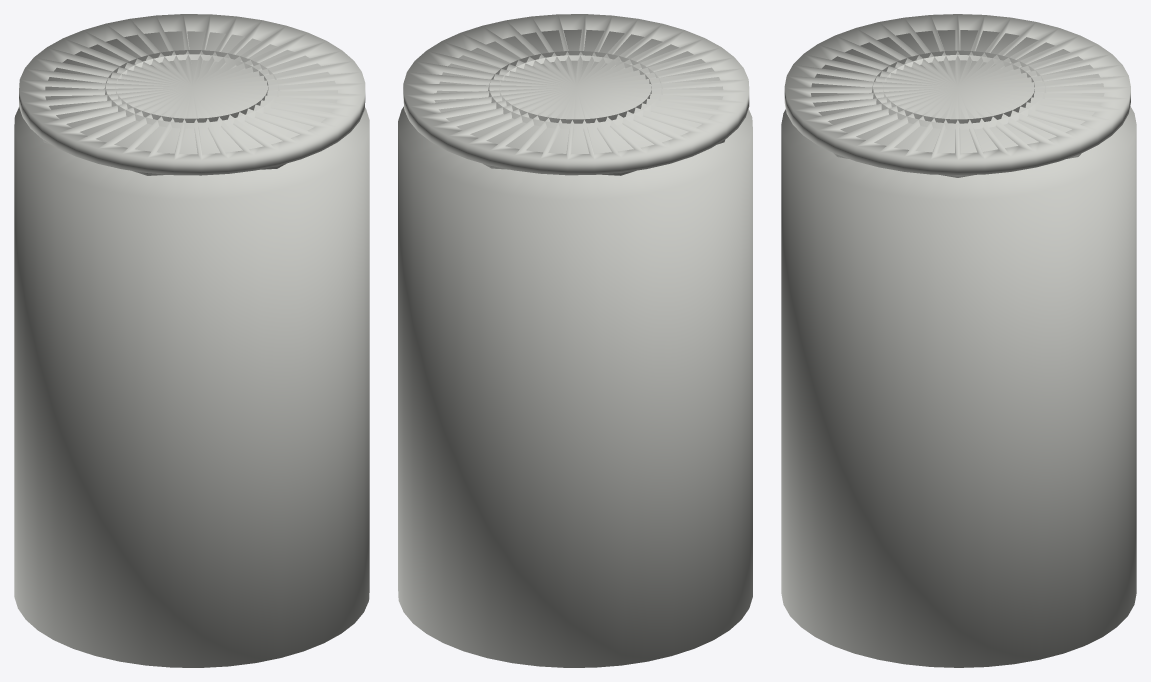
File: iss-destiny.glb
The picture shows the model from 3 angles, left to right: view 1: azimuth 30°, elevation 25°; view 2: azimuth 150°, elevation 25°; view 3: azimuth 270°, elevation 25°; orthographic projection.
Parts seen in each view (by area): view 1: destiny; view 2: destiny; view 3: destiny.
Part boxes in pixels (x1,y1,x2,y2): destiny: (14,14,369,667); destiny: (398,14,752,667); destiny: (781,14,1136,667).
Bounding box in the file's own units: 3.74 × 6.31 × 3.74.
Materials: 1 (1 with a texture image).
